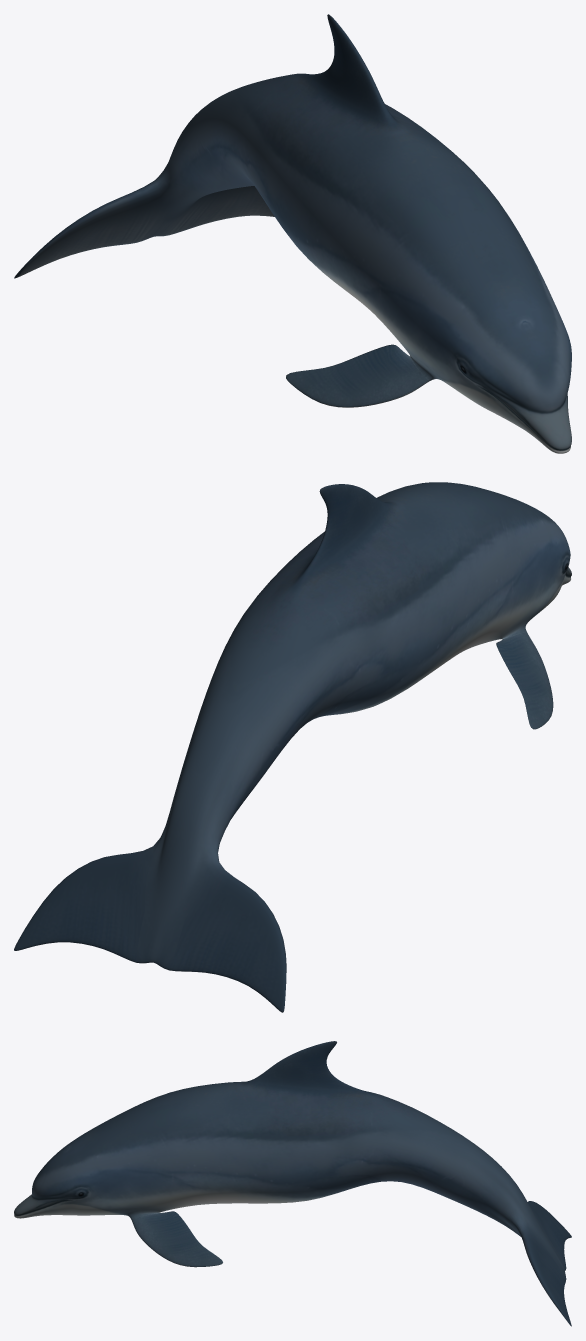
The model's file is dolphin.glb.
The picture shows the model from 3 angles, top to bottom: view 1: azimuth 30°, elevation 25°; view 2: azimuth 150°, elevation 25°; view 3: azimuth 270°, elevation 25°; orthographic projection. The views are drawn at different scales.
Visible parts, largest first — view 1: 10014_dolphin_v2_max2011_it2; view 2: 10014_dolphin_v2_max2011_it2; view 3: 10014_dolphin_v2_max2011_it2.
Boxes of the visible parts, x1,y1,x2,y2 form: 10014_dolphin_v2_max2011_it2: (14, 14, 571, 453); 10014_dolphin_v2_max2011_it2: (14, 482, 571, 1012); 10014_dolphin_v2_max2011_it2: (14, 1041, 571, 1326).
Bounding box in the file's own units: 82.24 × 106 × 220.
Materials: 1 (1 with a texture image).
